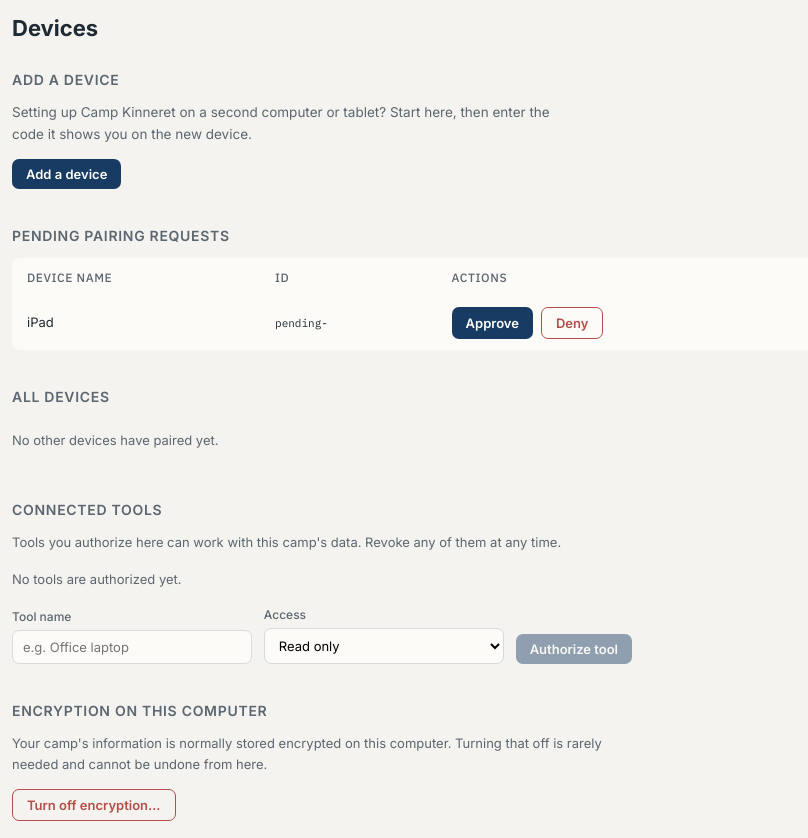
DeviceManagerScreen — approve when the joiner is gone (T346) › clears the flag on the next approve of that device
The image size is (808, 838).
Click the button "Approve": (492,323) [452,307,533,339]
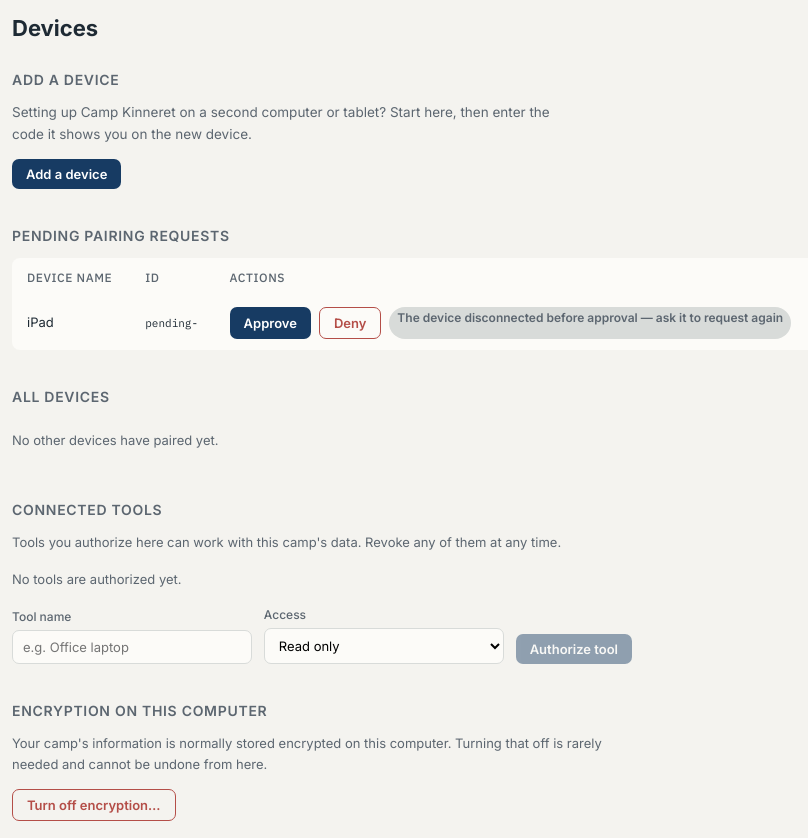
Expected: the text "The device disconnected before approval — ask it to request again" is shown, [389,307,791,339]
Click the button "Approve": (270,323) [230,307,311,339]
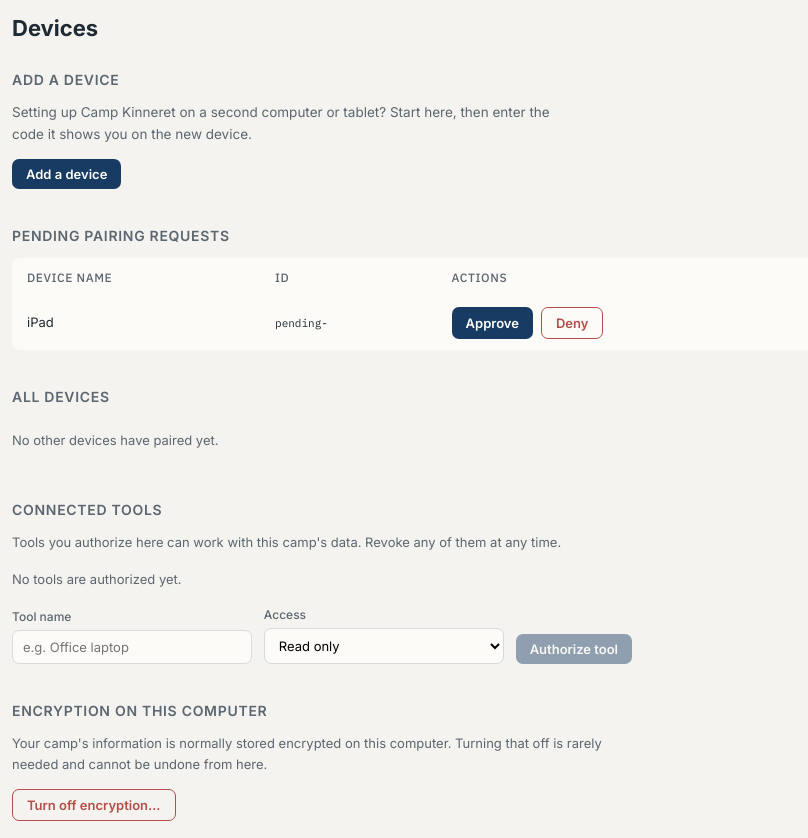
Expected: the text "The device disconnected before approval — ask it to request again" is gone
